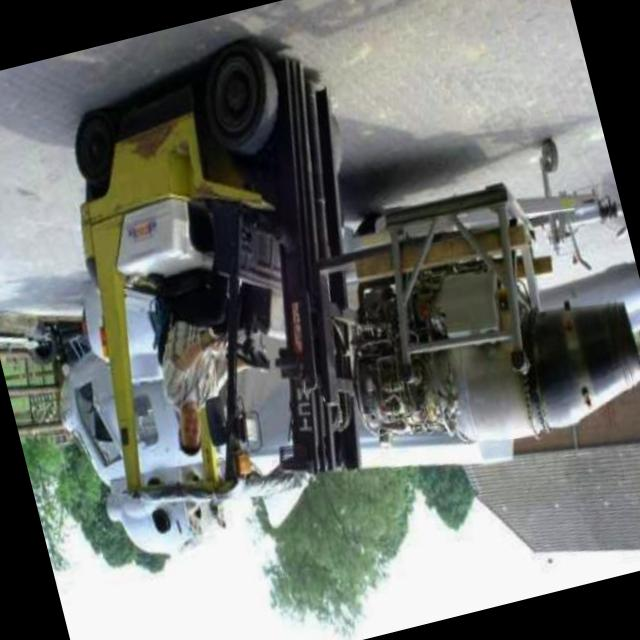driver: (114, 216, 304, 481)
forklift: (6, 1, 442, 548)
